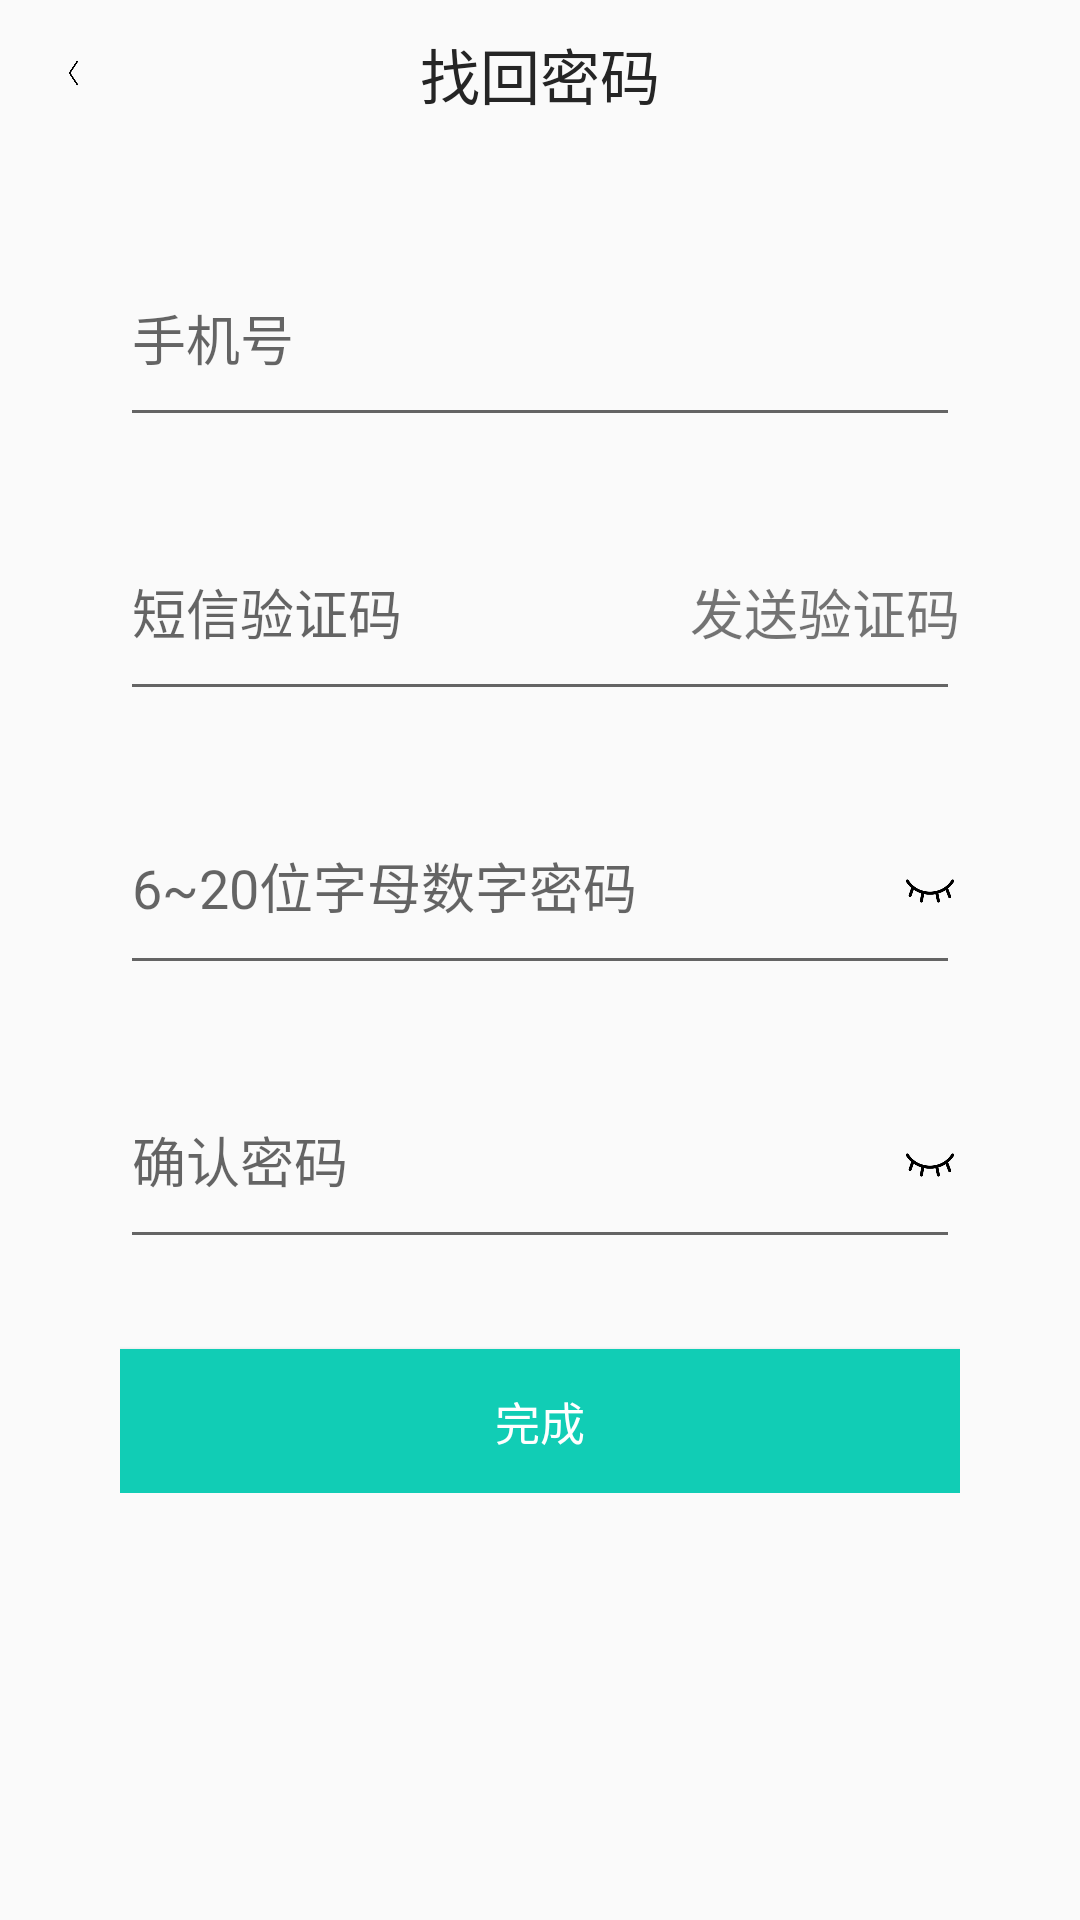

Icon click points for this 1080 x 1920 phone screenshot, format (x=x, y=y):
back: (x=73, y=73)
